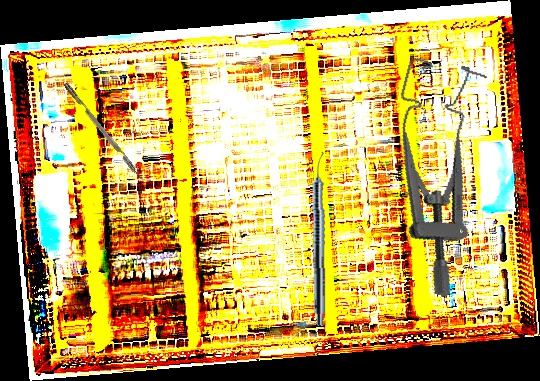Chopper: (63, 78, 152, 187)
Handpiece: (310, 151, 330, 327)
Speculum: (354, 52, 508, 299)
